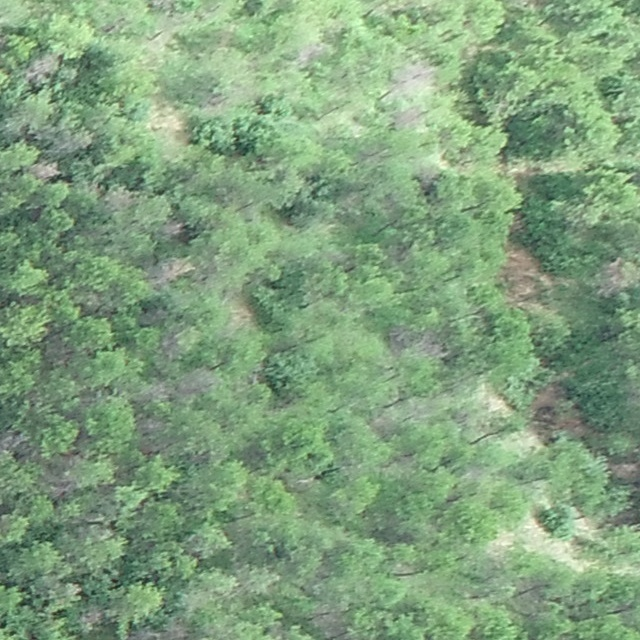unhealthy: (594, 255, 637, 296), (145, 101, 187, 142), (389, 58, 435, 94), (149, 257, 194, 286), (311, 604, 347, 639), (178, 366, 218, 397), (26, 52, 62, 84), (49, 129, 94, 154), (44, 473, 77, 501), (101, 184, 135, 211), (392, 105, 426, 130), (607, 459, 640, 484), (296, 41, 327, 67), (139, 378, 172, 402), (136, 413, 167, 438), (0, 429, 30, 454), (31, 159, 61, 181), (78, 605, 105, 629), (161, 620, 191, 639), (122, 627, 161, 640), (162, 219, 186, 237)
